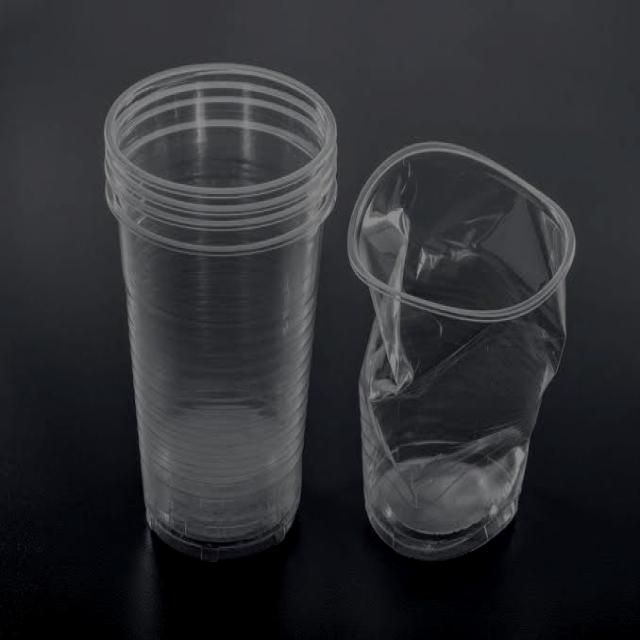plastic: (90, 49, 342, 569), (345, 137, 588, 574)
